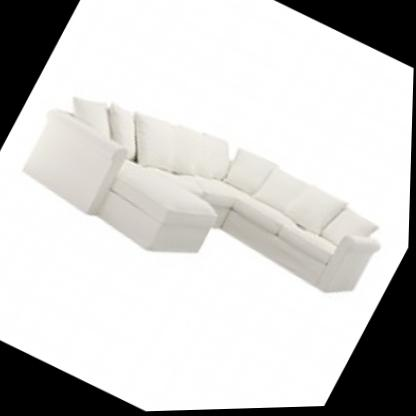Sofa: (0, 28, 415, 360)
